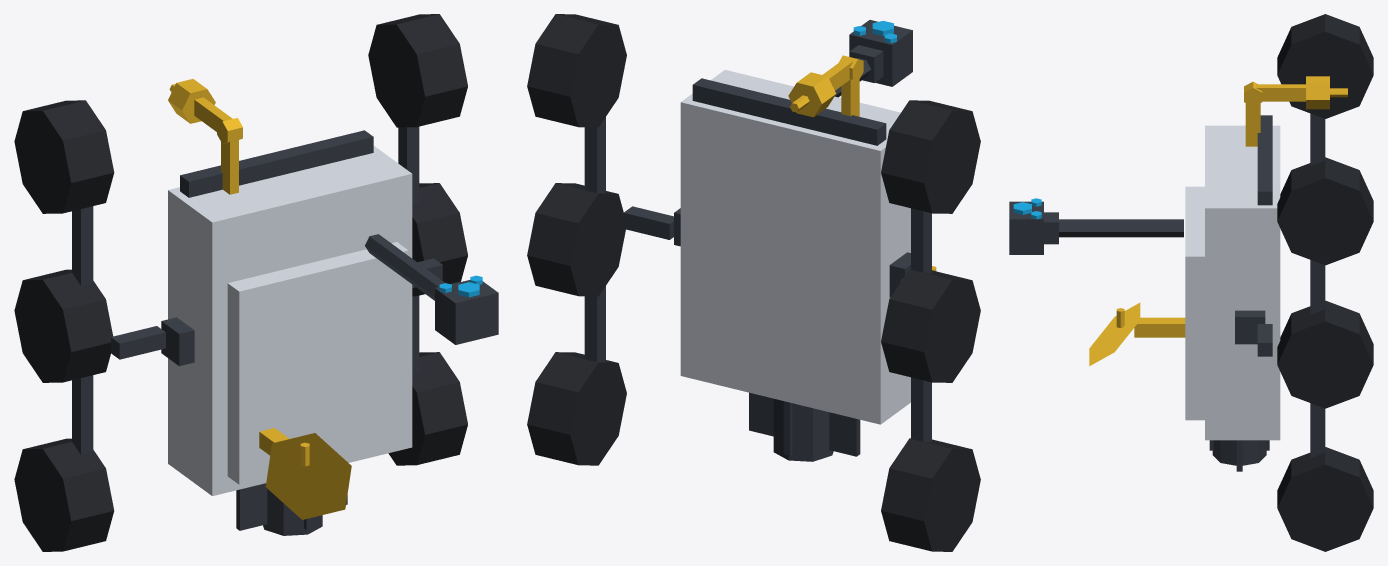
The model's file is mars_rover.obj.
The picture shows the model from 3 angles, left to right: view 1: azimuth 30°, elevation 25°; view 2: azimuth 150°, elevation 25°; view 3: azimuth 270°, elevation 25°; orthographic projection. The views are drawn at different scales.
Visible parts, largest first — view 1: RoverBody, Wheels, SuspensionStruts, HighGainAntenna, MastAssembly, RoboticArm, PowerGenerator; view 2: RoverBody, Wheels, SuspensionStruts, PowerGenerator, MastAssembly, RoboticArm; view 3: Wheels, RoverBody, SuspensionStruts, MastAssembly, RoboticArm, HighGainAntenna, PowerGenerator.
Boxes of the visible parts, <box> form: RoverBody: <box>168,146,412,495</box>; Wheels: <box>14,14,467,551</box>; SuspensionStruts: <box>72,126,442,454</box>; HighGainAntenna: <box>259,428,351,519</box>; MastAssembly: <box>365,234,498,344</box>; RoboticArm: <box>168,79,242,194</box>; PowerGenerator: <box>236,483,347,535</box>; RoverBody: <box>680,70,910,424</box>; Wheels: <box>527,14,980,551</box>; SuspensionStruts: <box>584,78,931,441</box>; PowerGenerator: <box>749,392,860,461</box>; MastAssembly: <box>834,20,912,97</box>; RoboticArm: <box>788,55,863,117</box>; Wheels: <box>1277,14,1373,551</box>; RoverBody: <box>1185,125,1280,440</box>; SuspensionStruts: <box>1235,113,1325,457</box>; MastAssembly: <box>1009,201,1183,254</box>; RoboticArm: <box>1244,76,1347,146</box>; HighGainAntenna: <box>1089,302,1185,366</box>; PowerGenerator: <box>1209,440,1269,471</box>.
Size of the model in its own units: 2.58 by 2.74 by 2.42.
